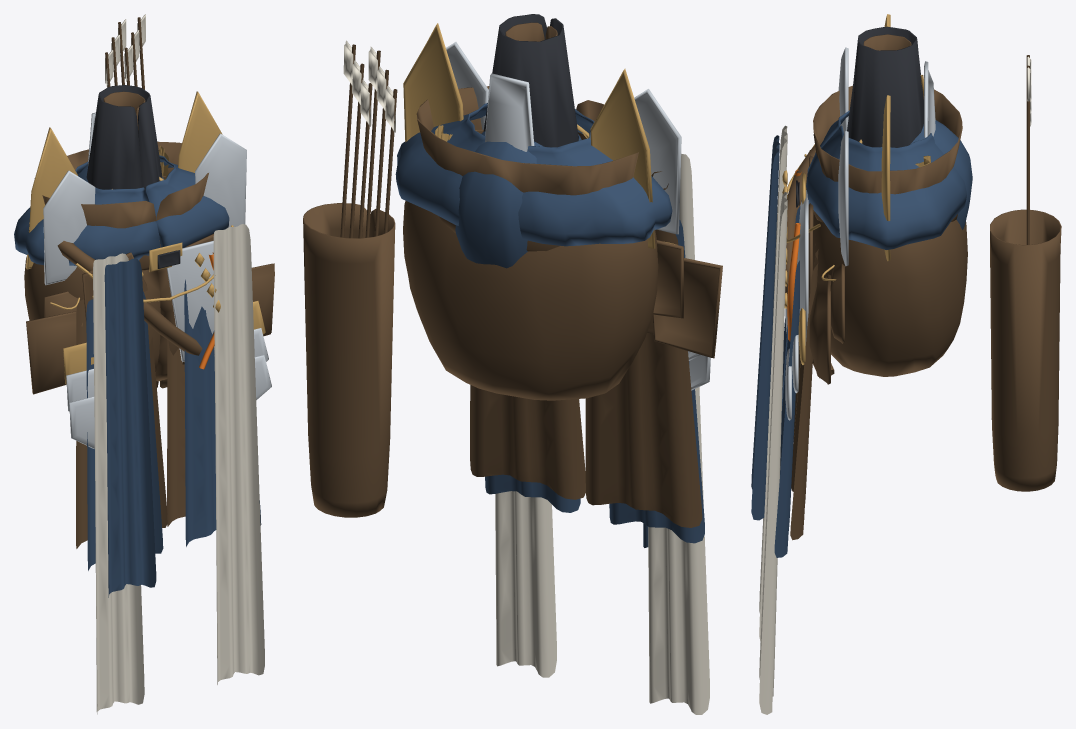
The model's file is ranger.glb.
3 renders of one model, left to right at view 1: azimuth 30°, elevation 25°; view 2: azimuth 150°, elevation 25°; view 3: azimuth 270°, elevation 25°, orthographic. The views are drawn at different scales.
Visible parts, largest first — view 1: Dawn stole.001, Marshal sash, Dawn stole, Draped shoulder cowl, Ranked split mantle.001, Fitted breeches, Fitted coat, Bastion raised guard, Waisted gambeson, Ranked split mantle, Split leather coat.001, Bastion raised guard.001 (+15 smaller); view 2: Fitted coat, Quiver, Split leather coat, Draped shoulder cowl, Dawn stole, Dawn stole.001, Split leather coat.001, Waisted gambeson, Fitted breeches, Sculpted hood, Trail satchel, Spellweave collar.001 (+11 smaller); view 3: Quiver, Fitted coat, Draped shoulder cowl, Fitted breeches, Dawn stole.001, Waisted gambeson, Marshal sash, Split leather coat.001, Ranked split mantle.001, Trail satchel.001, Dawn stole, Sculpted hood (+10 smaller).
Boxes of the visible parts, left/top/right/bottom form: Dawn stole.001: left=213, top=224, right=264, bottom=684; Marshal sash: left=104, top=258, right=156, bottom=597; Dawn stole: left=93, top=253, right=144, bottom=714; Draped shoulder cowl: left=14, top=155, right=229, bottom=265; Ranked split mantle.001: left=184, top=279, right=261, bottom=546; Fitted breeches: left=86, top=85, right=162, bottom=190; Fitted coat: left=24, top=176, right=178, bottom=381; Bastion raised guard: left=43, top=170, right=95, bottom=285; Waisted gambeson: left=34, top=141, right=208, bottom=228; Ranked split mantle: left=86, top=291, right=163, bottom=570; Split leather coat.001: left=167, top=340, right=185, bottom=526; Bastion raised guard.001: left=195, top=133, right=246, bottom=226; Fitted coat: left=403, top=129, right=658, bottom=400; Quiver: left=303, top=203, right=395, bottom=517; Split leather coat: left=585, top=229, right=702, bottom=527; Draped shoulder cowl: left=395, top=103, right=672, bottom=246; Dawn stole: left=648, top=154, right=709, bottom=714; Dawn stole.001: left=495, top=491, right=556, bottom=677; Split leather coat.001: left=470, top=385, right=585, bottom=499; Waisted gambeson: left=416, top=86, right=638, bottom=195; Fitted breeches: left=483, top=14, right=578, bottom=147; Sculpted hood: left=455, top=131, right=544, bottom=268; Trail satchel: left=652, top=258, right=722, bottom=358; Spellweave collar.001: left=403, top=23, right=463, bottom=142; Quiver: left=990, top=209, right=1061, bottom=491; Fitted coat: left=808, top=212, right=967, bottom=376; Draped shoulder cowl: left=806, top=110, right=966, bottom=249; Fitted breeches: left=847, top=26, right=923, bottom=147; Dawn stole.001: left=759, top=192, right=787, bottom=714; Waisted gambeson: left=813, top=85, right=962, bottom=194; Marshal sash: left=751, top=135, right=779, bottom=520; Split leather coat.001: left=790, top=243, right=818, bottom=540; Ranked split mantle.001: left=774, top=260, right=799, bottom=557; Trail satchel.001: left=809, top=274, right=830, bottom=384; Dawn stole: left=759, top=125, right=787, bottom=641; Sculpted hood: left=910, top=120, right=972, bottom=229.
Bounding box in the file's own units: 0.5728 × 1.27 × 0.5498.
